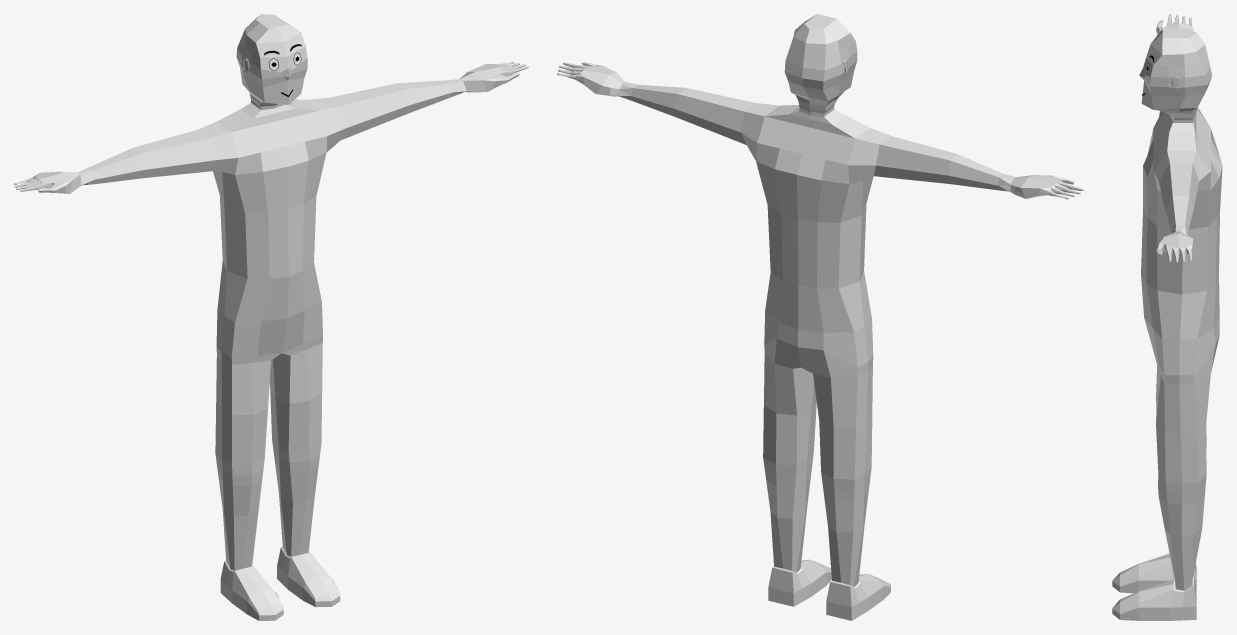
The model's file is MaleBody.gltf.
3 renders of one model, left to right at view 1: azimuth 30°, elevation 25°; view 2: azimuth 150°, elevation 25°; view 3: azimuth 270°, elevation 25°, orthographic. The views are drawn at different scales.
Visible parts, largest first — view 1: Person; view 2: Person; view 3: Person.
Boxes of the visible parts, x1,y1,x2,y2 form: Person: [14, 14, 528, 620]; Person: [557, 14, 1083, 620]; Person: [1112, 14, 1222, 620].
Bounding box in the file's own units: 1.61 × 1.71 × 0.3016.
Materials: 7 (3 with a texture image).
